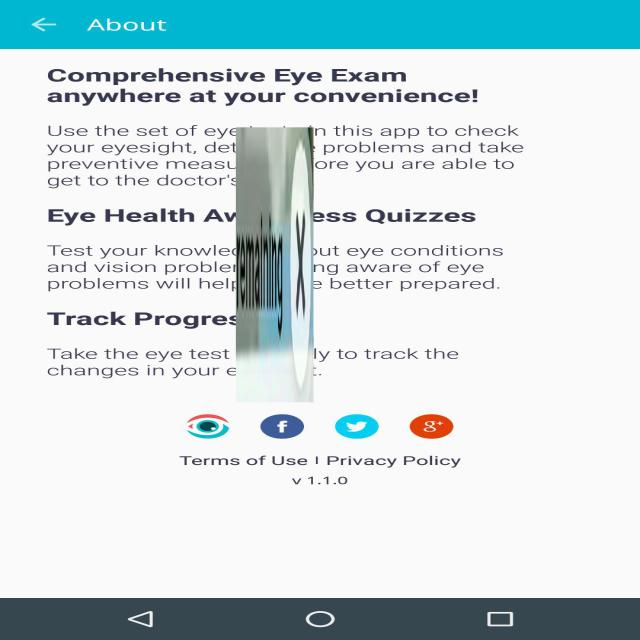misdirection: (236, 128, 313, 402)
